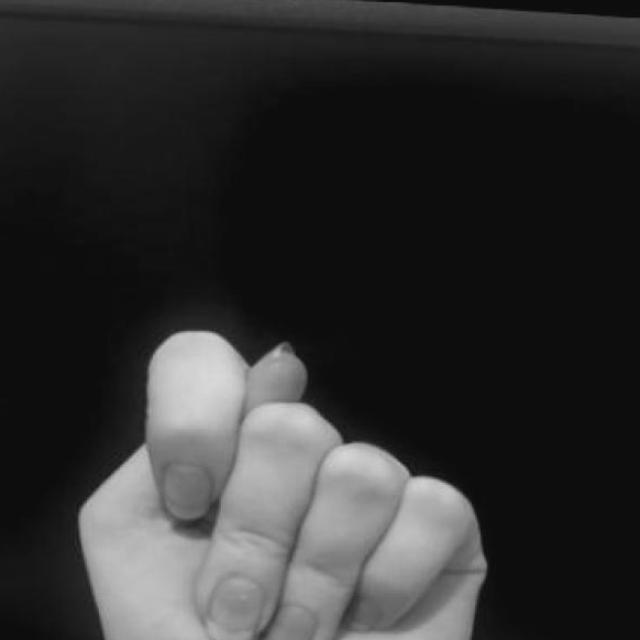T: (51, 311, 527, 640)
